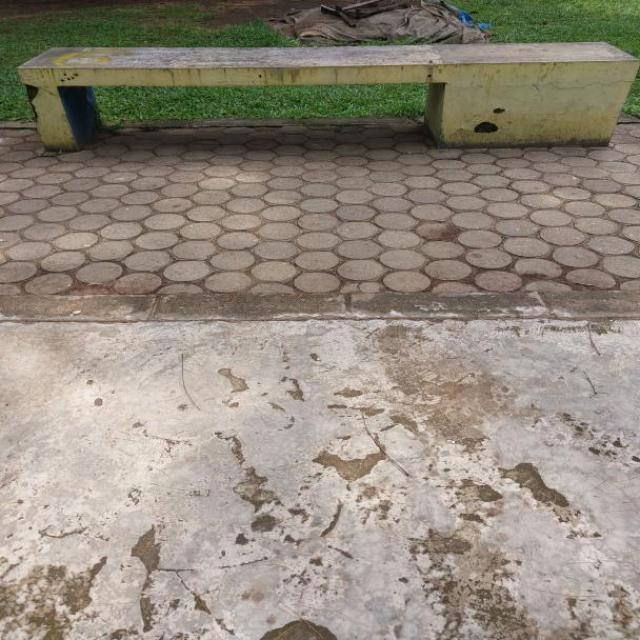bench ahead at: (20, 44, 638, 153)
